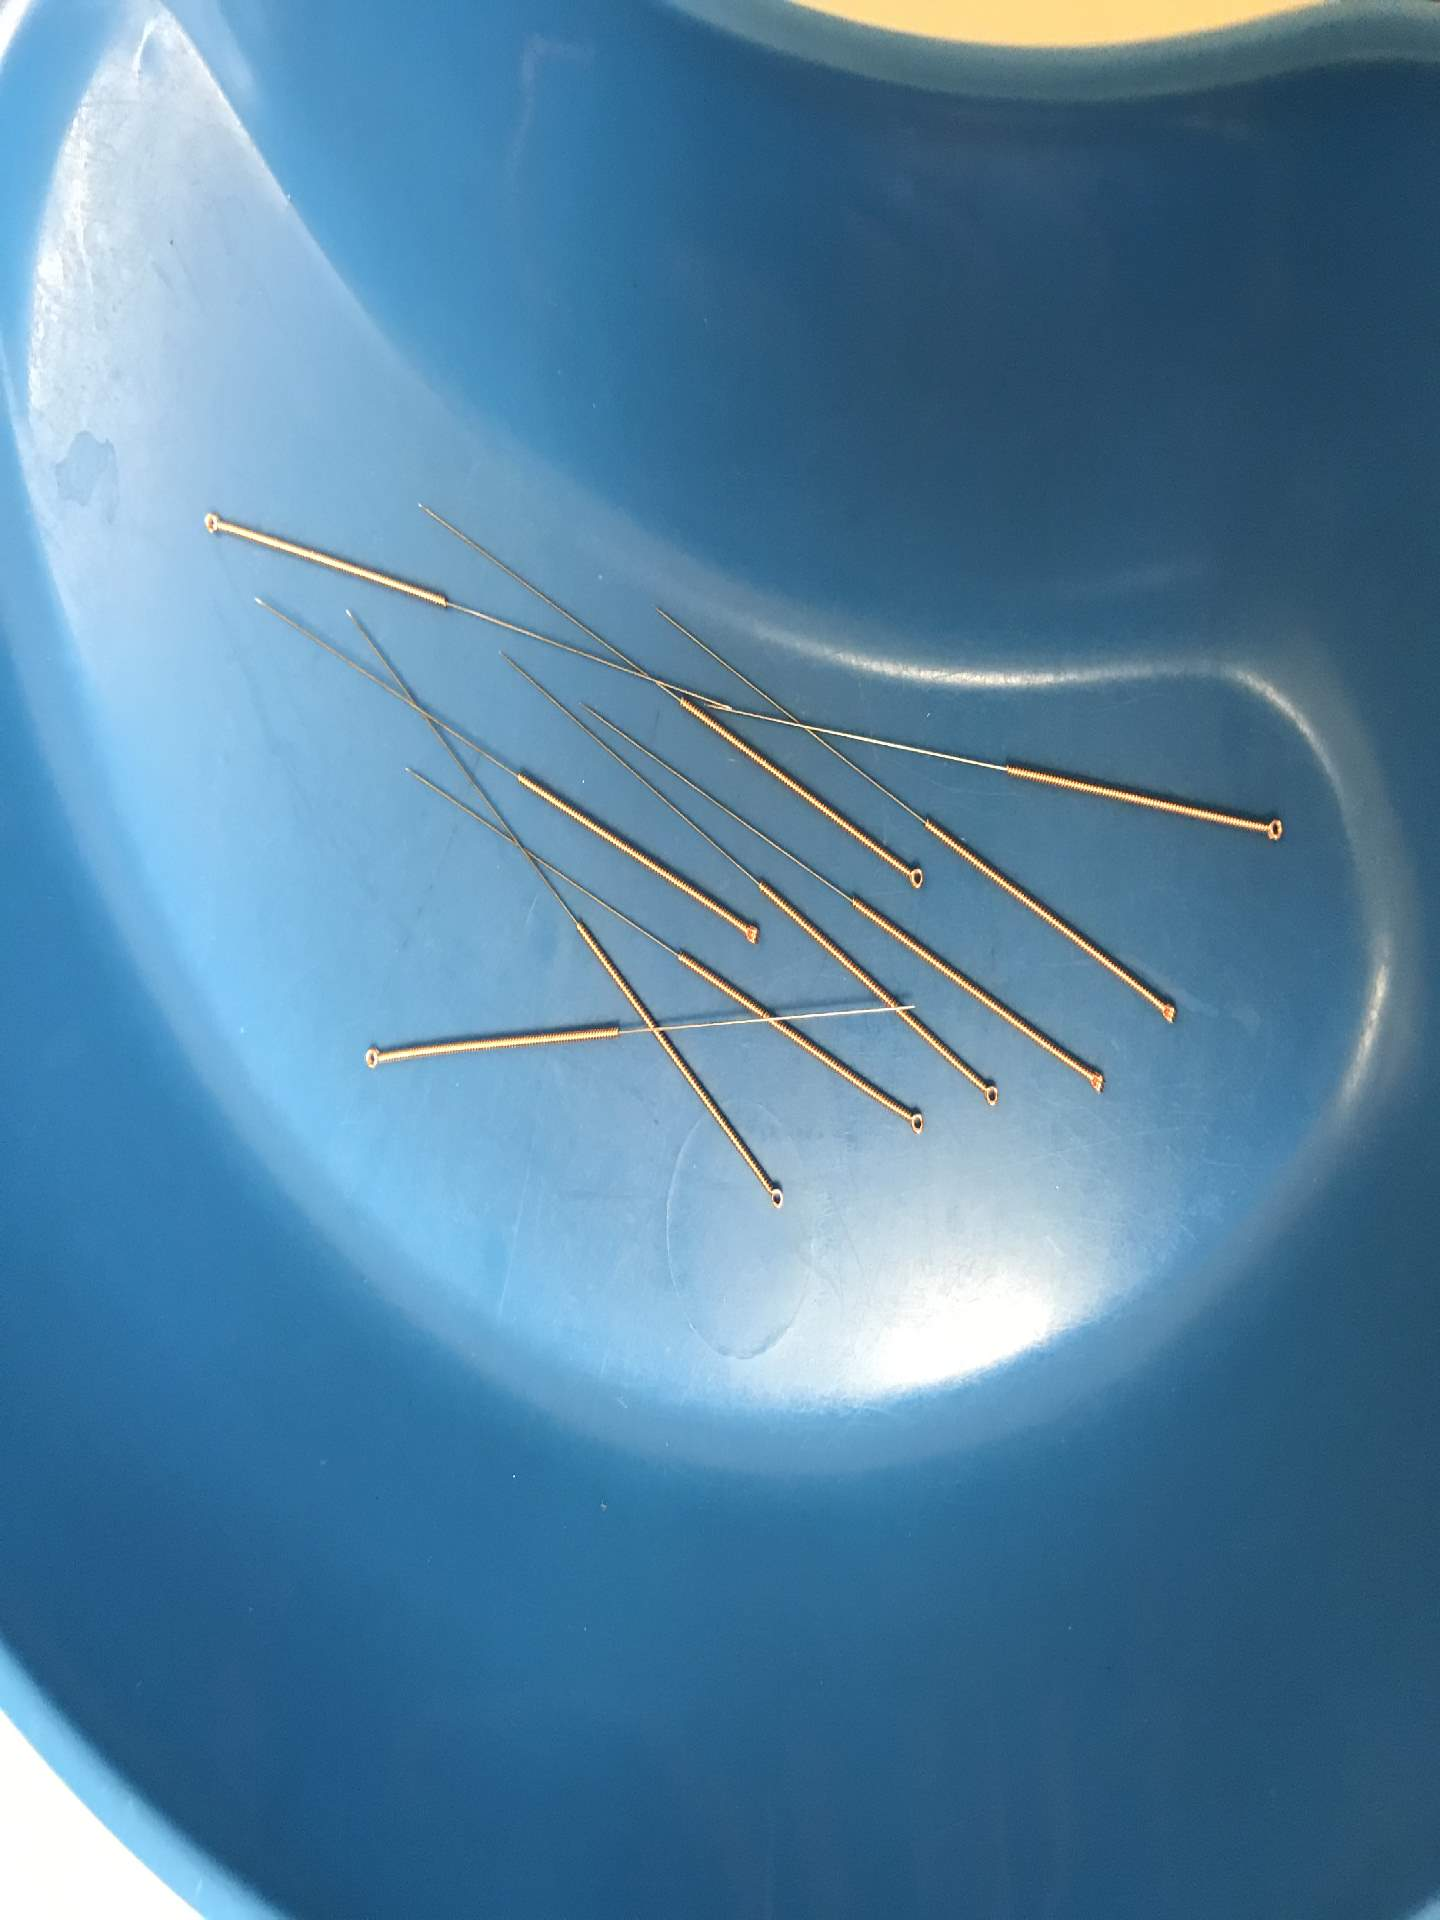needle: (753, 1172, 794, 1215), (194, 500, 230, 546), (1075, 1061, 1115, 1102), (1147, 992, 1184, 1033), (1252, 807, 1289, 850), (354, 1039, 393, 1076), (897, 1102, 933, 1143), (731, 913, 768, 951), (971, 1075, 1009, 1113), (895, 859, 933, 895)
